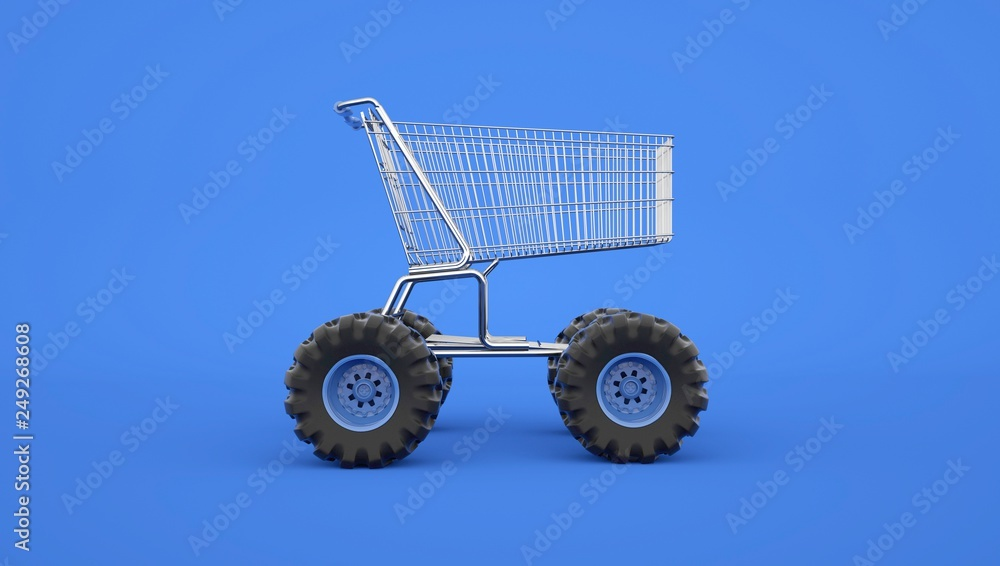shopping_cart: (271, 100, 731, 482)
